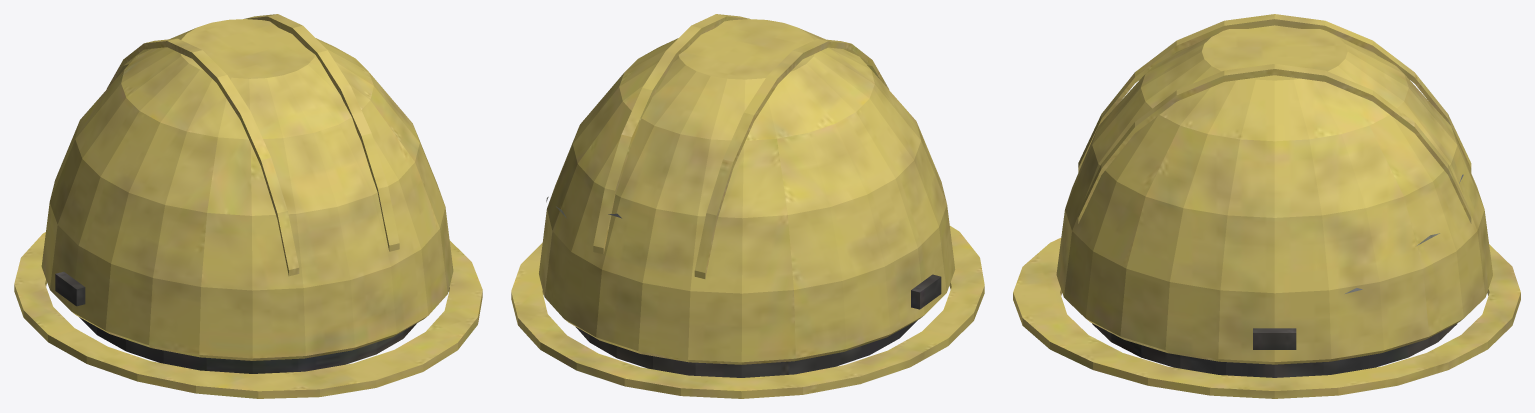
Rendered from CS16_hard_hats_v1.glb.
3 renders of one model, left to right at view 1: azimuth 30°, elevation 25°; view 2: azimuth 150°, elevation 25°; view 3: azimuth 270°, elevation 25°, orthographic.
Parts seen in each view (by area): view 1: Hollow molded crown; view 2: Hollow molded crown; view 3: Hollow molded crown.
Boxes of the visible parts, x1,y1,x2,y2 form: Hollow molded crown: (14, 14, 482, 398); Hollow molded crown: (511, 14, 984, 398); Hollow molded crown: (1013, 14, 1520, 398).
Bounding box in the file's own units: 0.2765 × 0.1717 × 0.3.
Materials: 3 (3 with a texture image).
